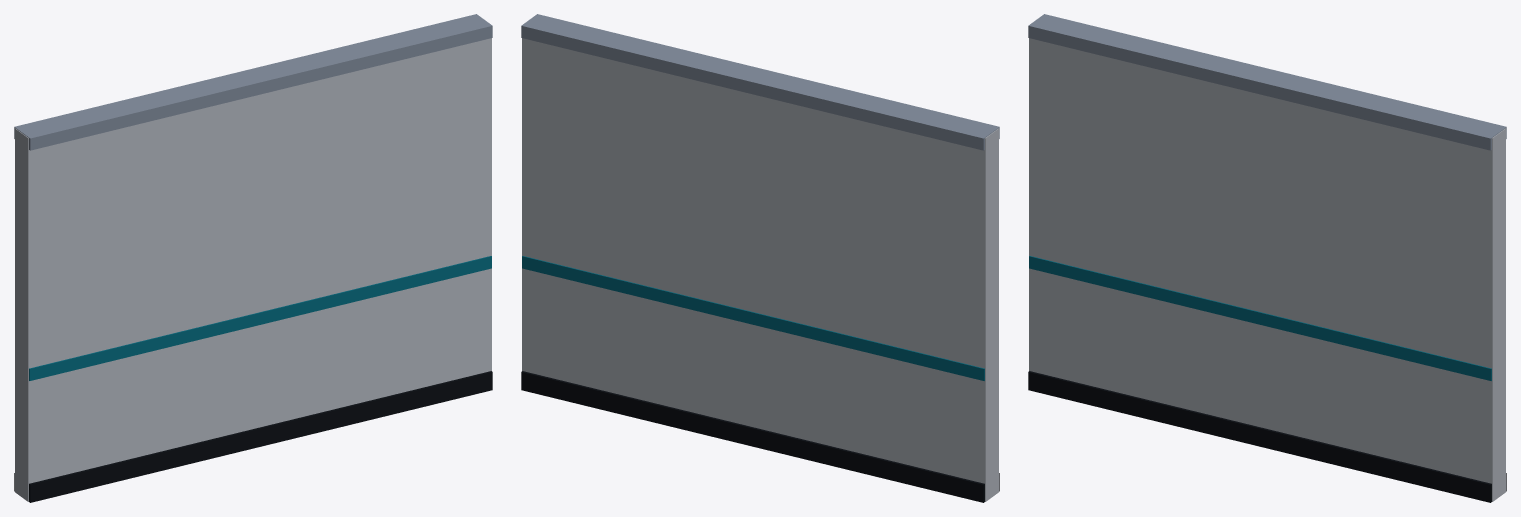
File: SM_Wall_4x3.glb
3 renders of one model, left to right at view 1: azimuth 30°, elevation 25°; view 2: azimuth 150°, elevation 25°; view 3: azimuth 330°, elevation 25°, orthographic.
Parts seen in each view (by area): view 1: SM_Wall_4x3-col; view 2: SM_Wall_4x3-col; view 3: SM_Wall_4x3-col.
Part boxes in pixels (box(x1,y1,x2,y2)): SM_Wall_4x3-col: box(14, 14, 492, 502); SM_Wall_4x3-col: box(521, 14, 999, 502); SM_Wall_4x3-col: box(1028, 14, 1506, 502).
Size of the model in its own units: 4 by 3 by 0.24.
